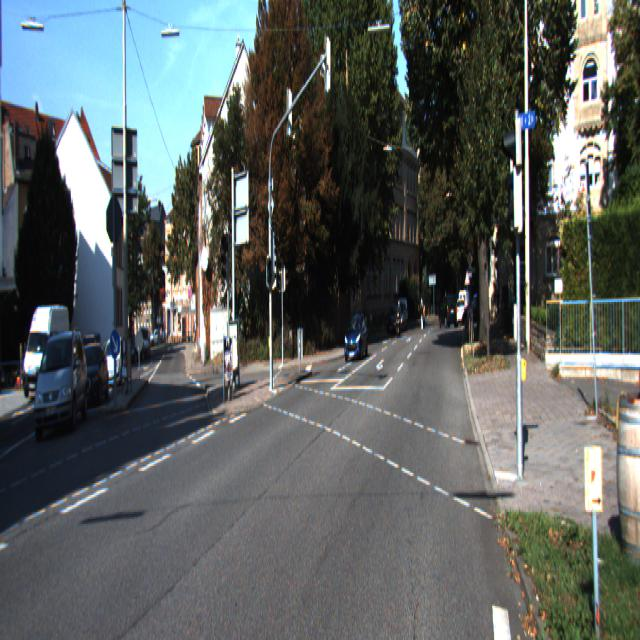Car: (34, 324, 91, 442), (24, 303, 72, 400), (70, 340, 109, 414), (344, 311, 369, 364), (395, 298, 403, 335)
